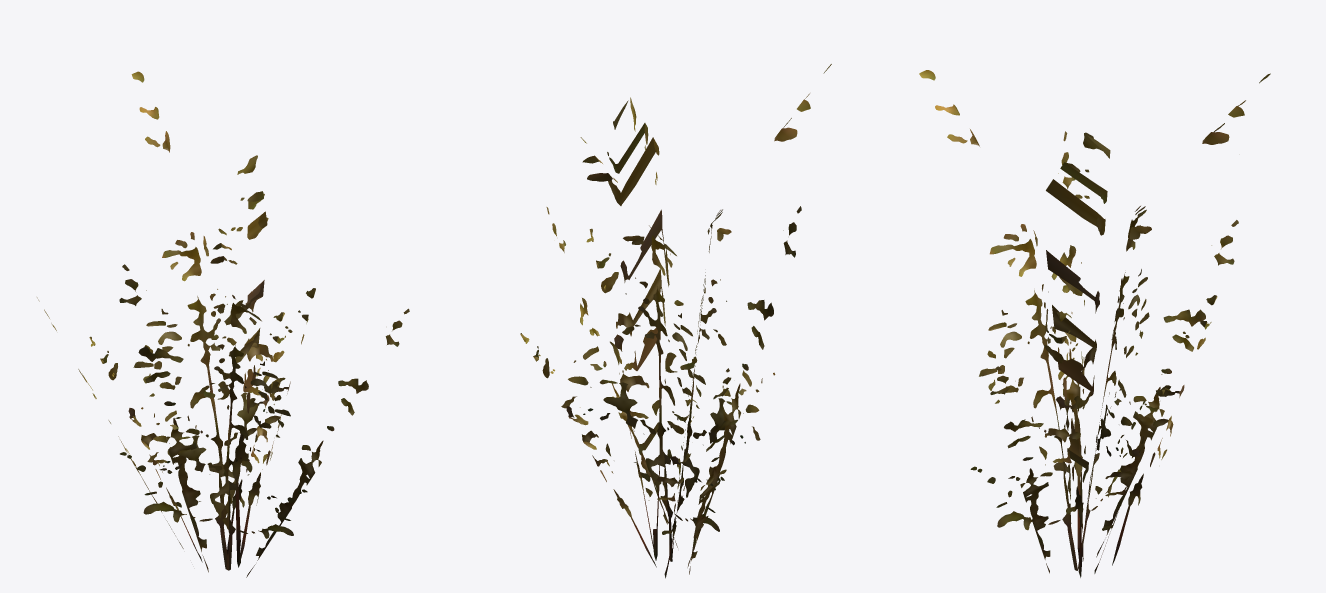
3 renders of one model, left to right at view 1: azimuth 30°, elevation 25°; view 2: azimuth 150°, elevation 25°; view 3: azimuth 270°, elevation 25°, orthographic. The views are drawn at different scales.
Parts seen in each view (by area): view 1: root; view 2: root; view 3: root.
Boxes of the visible parts, bbox=[...] form: root: bbox=[37, 71, 409, 577]; root: bbox=[520, 64, 831, 578]; root: bbox=[919, 70, 1270, 577].
Bounding box in the file's own units: 0.7769 × 1.2 × 0.8295.
Materials: 1 (1 with a texture image).
